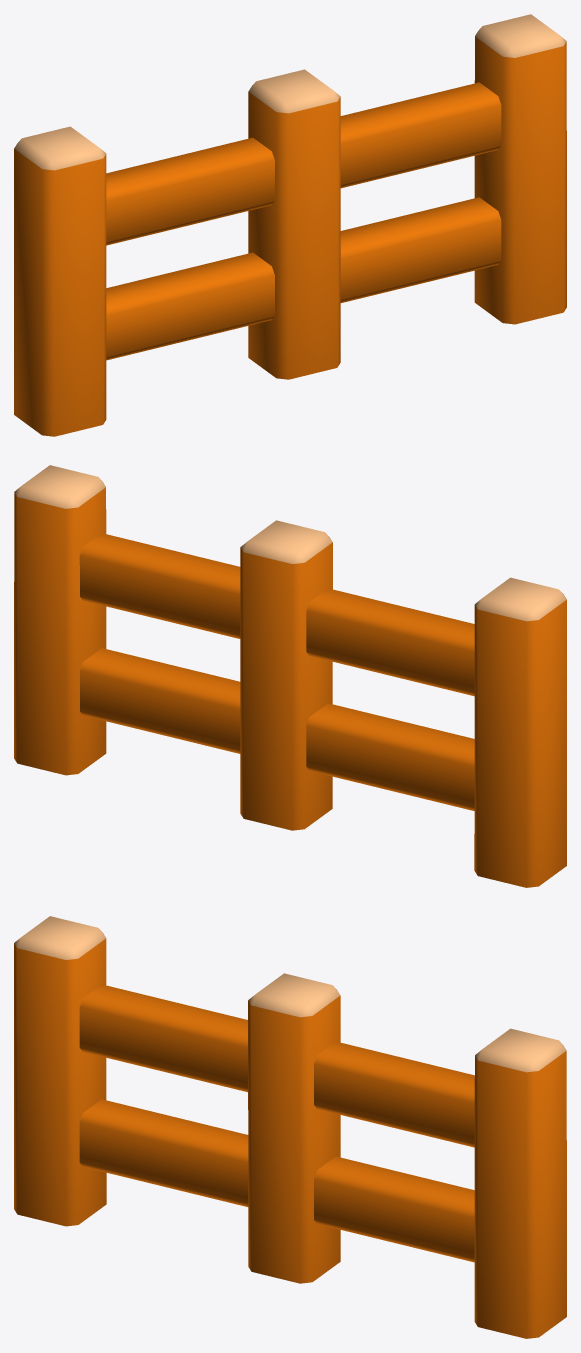
Rendered from Farm_Fence_C_01.fbx.
3 views of the same model, one above another, from view 1: azimuth 30°, elevation 25°; view 2: azimuth 150°, elevation 25°; view 3: azimuth 330°, elevation 25° (orthographic).
Visible parts, largest first — view 1: Farm_Fence_C_01; view 2: Farm_Fence_C_01; view 3: Farm_Fence_C_01.
Part boxes in pixels (left/top/right/bottom): Farm_Fence_C_01: left=14, top=14, right=566, bottom=436; Farm_Fence_C_01: left=14, top=465, right=566, bottom=887; Farm_Fence_C_01: left=14, top=916, right=566, bottom=1338.
Bounding box in the file's own units: 200 × 100 × 24.68.
